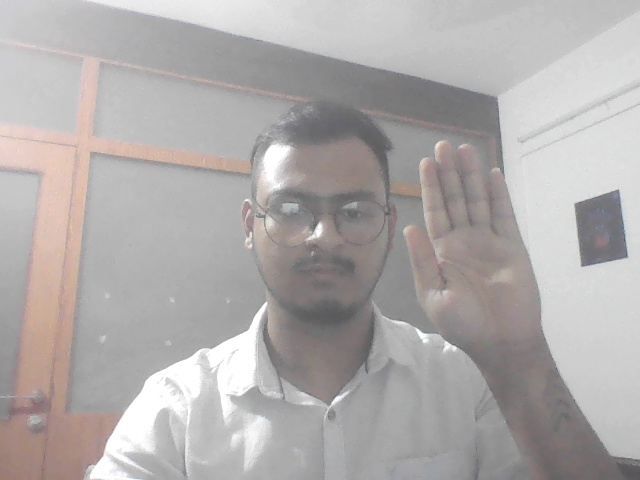Hello: (399, 134, 561, 357)
